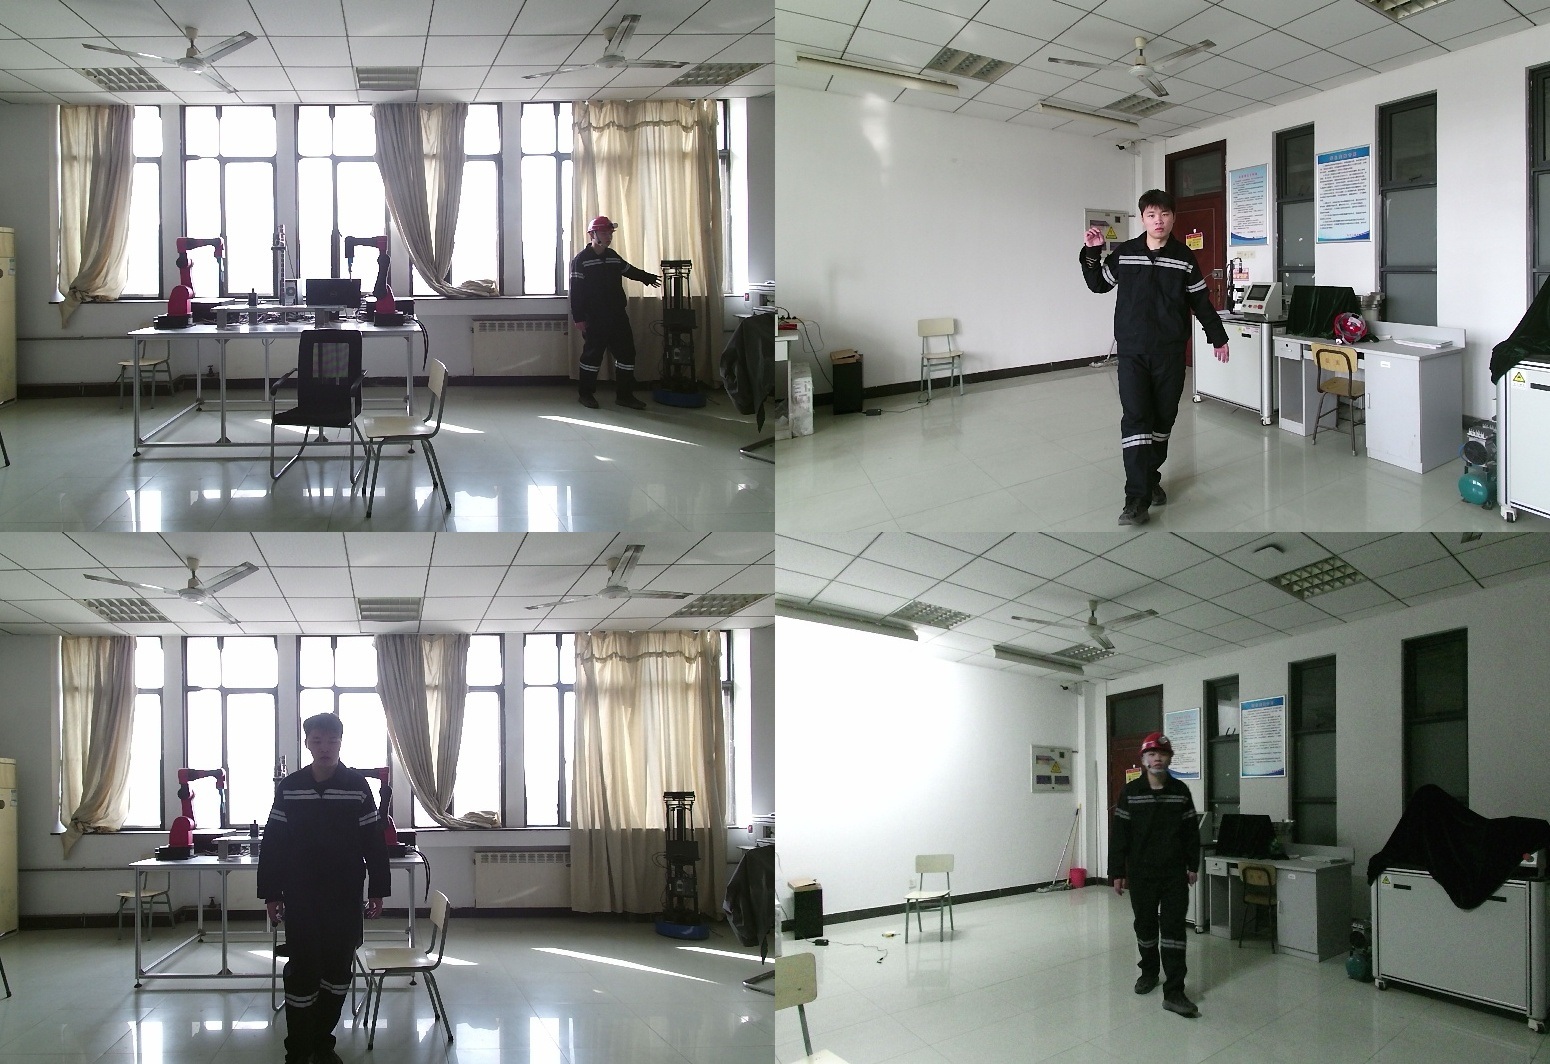person: (1080, 191, 1232, 521), (262, 712, 399, 1064), (1106, 734, 1208, 1017), (568, 215, 662, 415)
